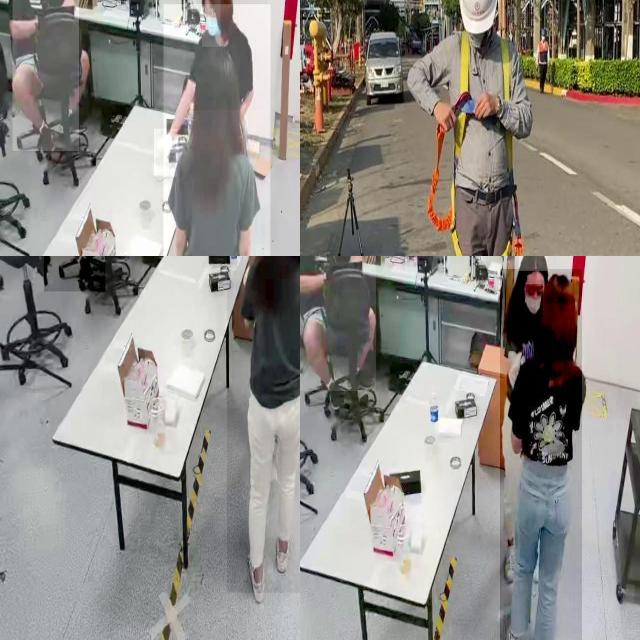Harness: (428, 30, 478, 256)
face_mask: (201, 0, 220, 47), (521, 284, 543, 318)
hand_glove: (154, 128, 178, 176)
head_nohelmet: (194, 44, 238, 84), (541, 272, 575, 304), (519, 256, 548, 271)
person: (499, 269, 582, 640), (163, 4, 270, 256), (227, 256, 300, 594), (300, 256, 376, 391), (12, 0, 79, 152), (185, 0, 268, 110)
shoes: (244, 541, 268, 604), (273, 520, 293, 581), (349, 354, 377, 396), (31, 116, 57, 158), (500, 532, 520, 582), (324, 370, 344, 415), (73, 256, 93, 290), (503, 619, 522, 640)
